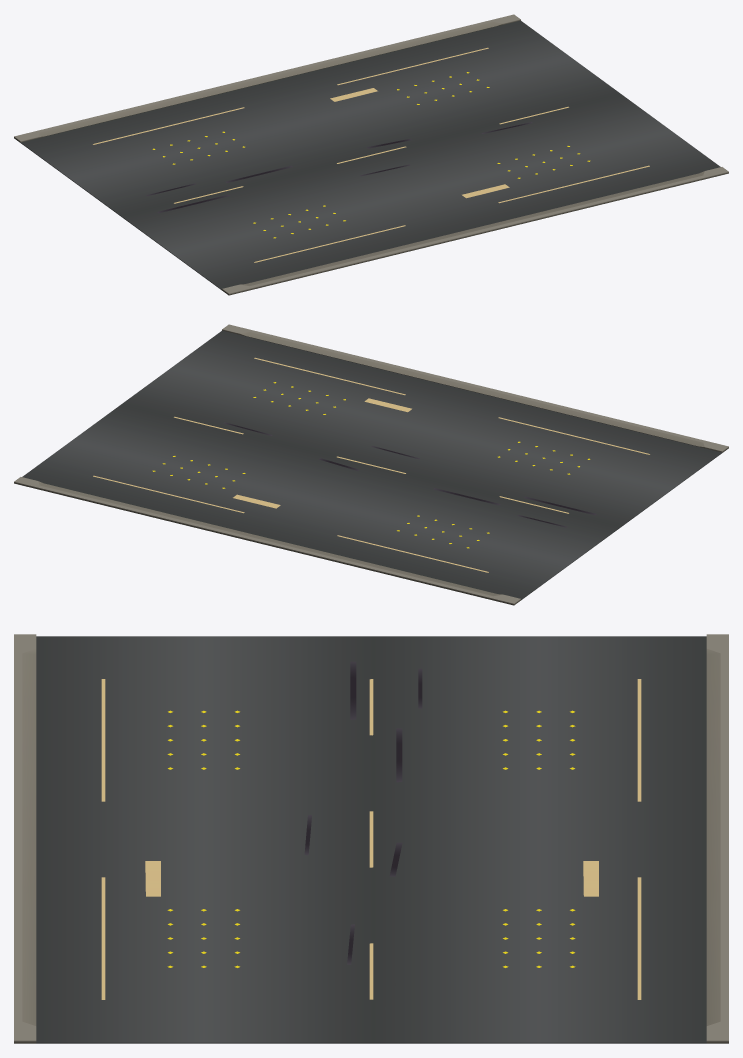
Rendered from Runway_1D.fbx.
3 views of the same model, one above another, from view 1: azimuth 30°, elevation 25°; view 2: azimuth 150°, elevation 25°; view 3: azimuth 270°, elevation 25° (orthographic). The views are drawn at different scales.
Parts seen in each view (by area): view 1: Runway_1D; view 2: Runway_1D; view 3: Runway_1D.
Part boxes in pixels (x1,y1,x2,y2): Runway_1D: (14,14,728,295); Runway_1D: (14,324,728,605); Runway_1D: (14,634,728,1043).
Size of the model in its own units: 8600 by 30 by 6400.
